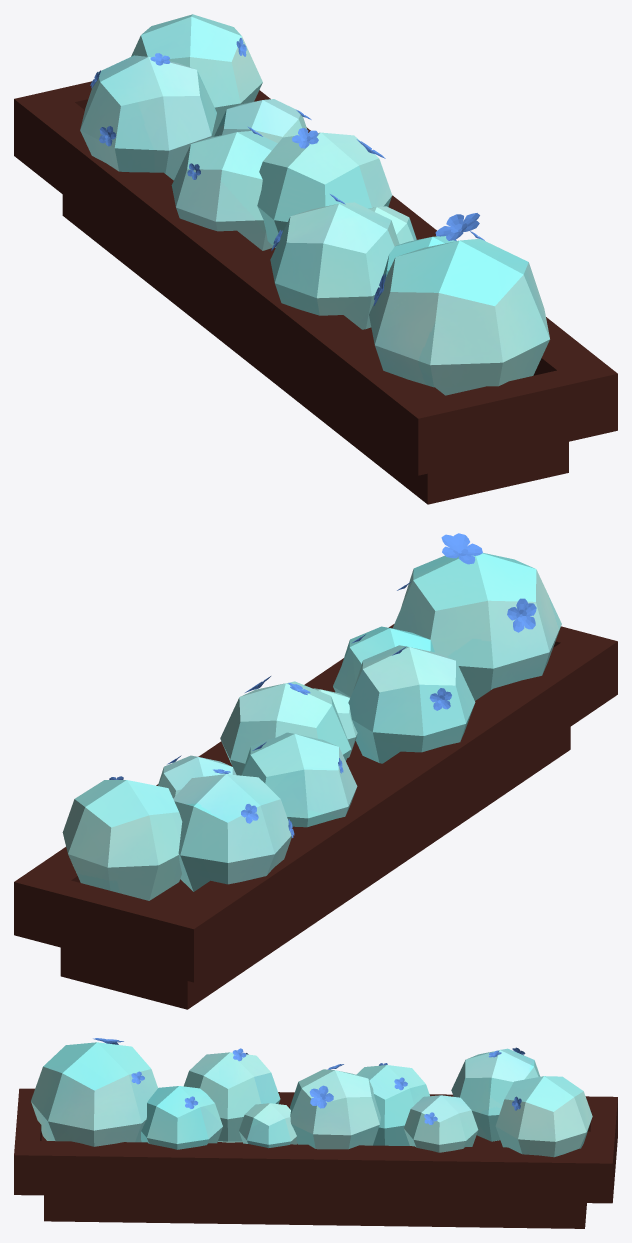
The model's file is vase.fbx.
The picture shows the model from 3 angles, top to bottom: view 1: azimuth 30°, elevation 25°; view 2: azimuth 150°, elevation 25°; view 3: azimuth 270°, elevation 25°; orthographic projection. The views are drawn at different scales.
Parts seen in each view (by area): view 1: vase; view 2: vase; view 3: vase.
Part boxes in pixels (x1=…): vase: x1=14, y1=14, x2=617, y2=504; vase: x1=14, y1=533, x2=617, y2=1009; vase: x1=14, y1=1038, x2=617, y2=1228.
Size of the model in its own units: 47.24 by 48.47 by 160.
3 materials, 1 textured.
